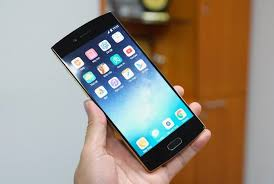bphone: (38, 9, 208, 169)
